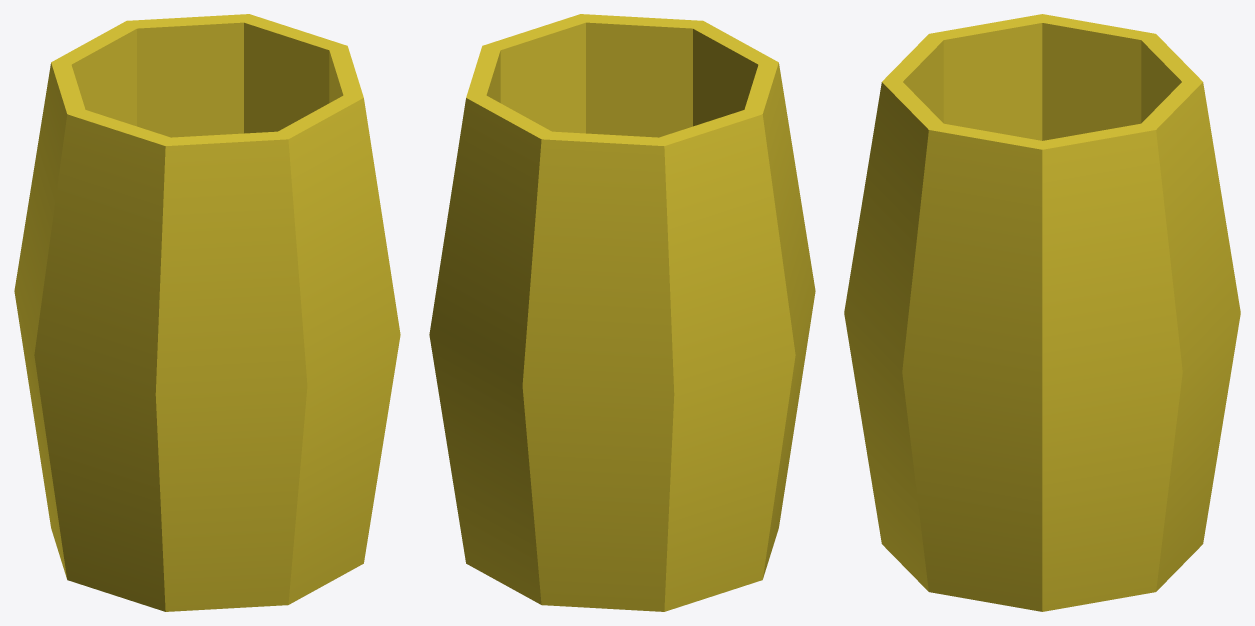
File: PotJaune.fbx
The picture shows the model from 3 angles, left to right: view 1: azimuth 30°, elevation 25°; view 2: azimuth 150°, elevation 25°; view 3: azimuth 270°, elevation 25°; orthographic projection.
Visible parts, largest first — view 1: Pot2; view 2: Pot2; view 3: Pot2.
Part boxes in pixels (bbox=[...]): Pot2: bbox=[14, 14, 400, 611]; Pot2: bbox=[429, 14, 815, 611]; Pot2: bbox=[844, 14, 1240, 611].
Size of the model in its own units: 0.1283 by 0.165 by 0.1283.
